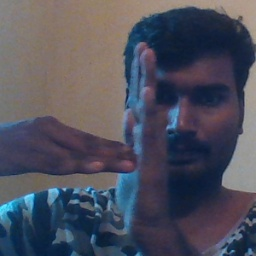Z: (35, 43, 181, 244)
